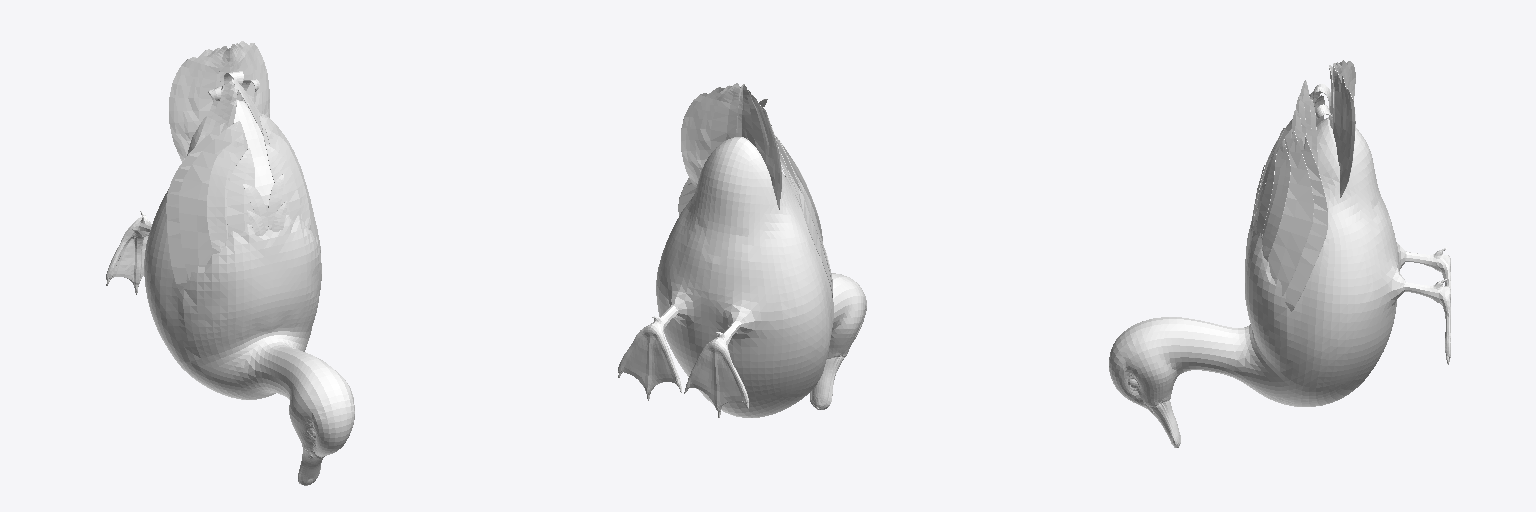
Rendered from Duck.obj.
3 renders of one model, left to right at view 1: azimuth 30°, elevation 25°; view 2: azimuth 150°, elevation 25°; view 3: azimuth 270°, elevation 25°, orthographic.
Visible parts, largest first — view 1: Object.1; view 2: Object.1; view 3: Object.1.
Boxes of the visible parts, box(x1,y1,x2,y2) form: Object.1: box(106, 41, 354, 485); Object.1: box(618, 83, 866, 417); Object.1: box(1109, 60, 1450, 447).
Bounding box in the file's own units: 23.91 × 54.76 × 44.42.